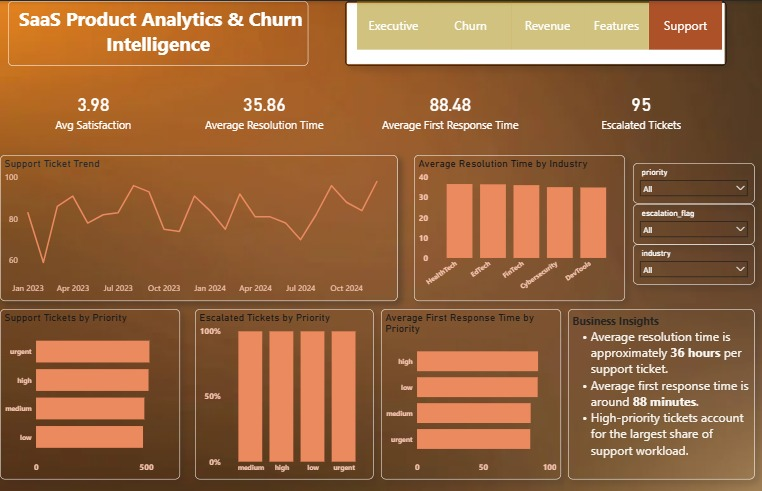

The dashboard page shown, as its layout file describes it:
{"tool":"powerbi","page":{"name":"Support Operations","canvas":[1501,966],"ordinal":4},"visuals":[{"type":"card","fields":{"Values":["DAX_Measures.Avg Satisfaction"]},"box":[16,144,336,144],"z":0},{"type":"card","fields":{"Values":["DAX_Measures.Average First Response Time"]},"box":[720,144,336,144],"z":1000},{"type":"card","fields":{"Values":["DAX_Measures.Escalated Tickets"]},"box":[1104,144,320,144],"z":2000},{"type":"card","fields":{"Values":["DAX_Measures.Average Resolution Time"]},"box":[352,144,336,144],"z":3000},{"type":"clusteredBarChart","title":"Support Tickets by Priority","fields":{"Category":["support_clean.priority"],"Y":["DAX_Measures.Ticket Count"]},"box":[0,608,355,336],"z":5000},{"type":"clusteredColumnChart","title":"Average Resolution Time by Industry","fields":{"Category":["accounts_clean.industry"],"Y":["DAX_Measures.Average Resolution Time"]},"box":[816,304,416,288],"z":6000},{"type":"clusteredBarChart","title":"Escalated Tickets by Priority","fields":{"Category":["support_clean.priority"],"Y":["DAX_Measures.Escalated Tickets"]},"box":[384,608,352,336],"z":7000},{"type":"lineChart","title":"Support Ticket Trend","fields":{"Category":["support_clean.submitted_at.Variation.Date Hierarchy.Year","support_clean.submitted_at.Variation.Date Hierarchy.Month"],"Y":["DAX_Measures.Ticket Count"]},"box":[0,304,784,288],"z":8000},{"type":"clusteredBarChart","title":"Average First Response Time by Priority","fields":{"Category":["support_clean.priority"],"Y":["DAX_Measures.Average First Response Time"]},"box":[752,608,355,336],"z":9000},{"type":"slicer","fields":{"Values":["accounts_clean.industry"]},"box":[1248,480,240,80],"z":10000},{"type":"slicer","fields":{"Values":["support_clean.priority"]},"box":[1248,320,240,80],"z":11000},{"type":"slicer","fields":{"Values":["support_clean.escalation_flag"]},"box":[1248,400,240,80],"z":12000},{"type":"textbox","box":[1120,608,368,336],"z":13000},{"type":"shape","box":[681,0,752,128],"z":13500},{"type":"actionButton","box":[1280,0,144,96],"z":14000},{"type":"actionButton","title":"Executive","box":[704,0,144,96],"z":15000},{"type":"actionButton","box":[848,0,160,96],"z":16000},{"type":"actionButton","box":[1008,0,144,96],"z":17000},{"type":"actionButton","box":[1152,0,128,96],"z":18000},{"type":"textbox","box":[16,0,592,128],"z":18001}]}

Visuals, with their boxes in screenshot pixels (x1, y1, x2, y2), scaled from the page's 1501x966 canvas onto the 762x491 screenshot:
card - DAX_Measures.Avg Satisfaction: BBox(8, 73, 179, 146)
card - DAX_Measures.Average First Response Time: BBox(366, 73, 536, 146)
card - DAX_Measures.Escalated Tickets: BBox(560, 73, 723, 146)
card - DAX_Measures.Average Resolution Time: BBox(179, 73, 349, 146)
"Support Tickets by Priority" clusteredBarChart: BBox(0, 309, 180, 480)
"Average Resolution Time by Industry" clusteredColumnChart: BBox(414, 155, 625, 301)
"Escalated Tickets by Priority" clusteredBarChart: BBox(195, 309, 374, 480)
"Support Ticket Trend" lineChart: BBox(0, 155, 398, 301)
"Average First Response Time by Priority" clusteredBarChart: BBox(382, 309, 562, 480)
slicer - accounts_clean.industry: BBox(634, 244, 755, 285)
slicer - support_clean.priority: BBox(634, 163, 755, 203)
slicer - support_clean.escalation_flag: BBox(634, 203, 755, 244)
textbox: BBox(569, 309, 755, 480)
shape: BBox(346, 0, 727, 65)
actionButton: BBox(650, 0, 723, 49)
"Executive" actionButton: BBox(357, 0, 430, 49)
actionButton: BBox(430, 0, 512, 49)
actionButton: BBox(512, 0, 585, 49)
actionButton: BBox(585, 0, 650, 49)
textbox: BBox(8, 0, 309, 65)
